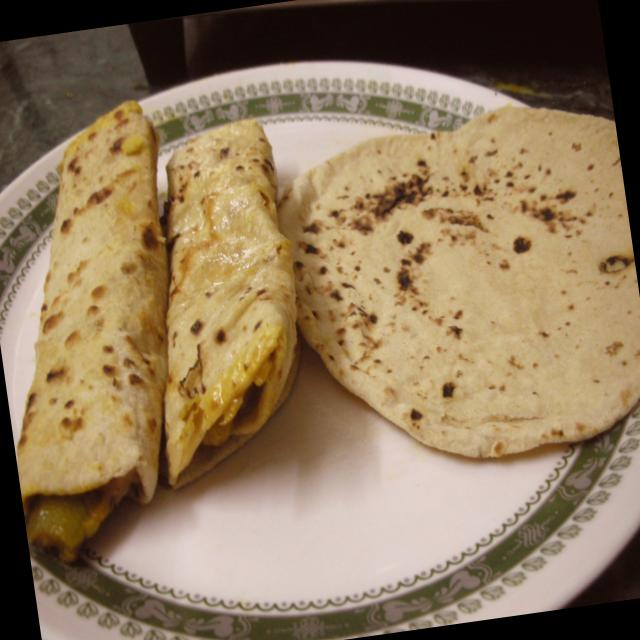roti: (281, 113, 640, 462), (15, 93, 303, 516)
